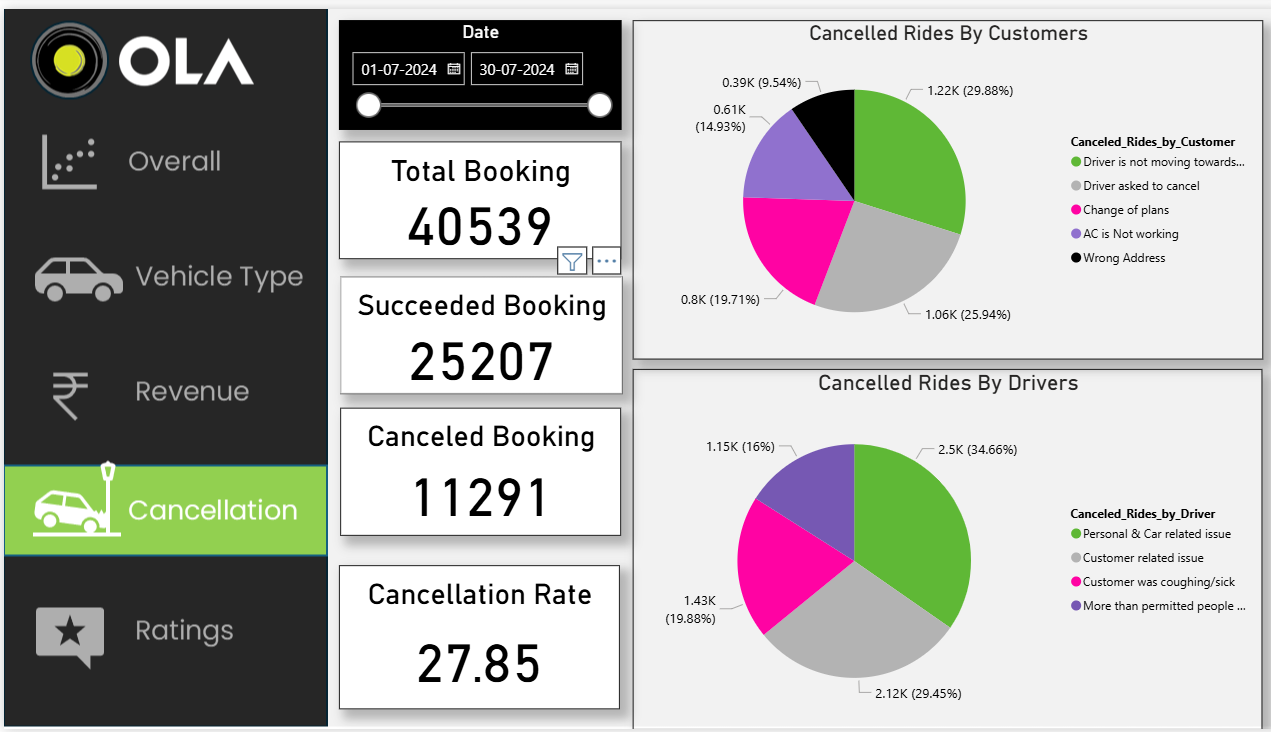

Layout of this report page (visuals, bound fields, positions):
{"tool":"powerbi","page":{"name":"Page 4","canvas":[1280,720],"ordinal":3},"visuals":[{"type":"actionButton","box":[0,578.6,322.9,95.7],"z":0},{"type":"actionButton","box":[0,220,322.9,95.7],"z":1000},{"type":"actionButton","box":[0,110,322.9,95.7],"z":2000},{"type":"actionButton","box":[0,337.1,322.9,95.7],"z":3000},{"type":"pieChart","title":"Cancelled Rides By Customers","fields":{"Category":["July.Canceled_Rides_by_Customer"],"Y":["CountNonNull(July.Booking_Value)"]},"box":[628.5,10.8,630.1,339],"z":4000},{"type":"pieChart","title":"Cancelled Rides By Drivers","fields":{"Category":["July.Canceled_Rides_by_Driver"],"Y":["CountNonNull(July.Canceled_Rides_by_Customer)"]},"box":[628.5,359.5,629.8,360.9],"z":5000},{"type":"slicer","title":"Date","fields":{"Values":["July.Date"]},"box":[335.4,10.9,282.3,109.8],"z":6000},{"type":"card","title":"Total Booking","fields":{"Values":["CountNonNull(July.Booking_ID)"]},"box":[335.1,132.3,282.2,117.6],"z":7000},{"type":"card","title":"Succeeded Booking","fields":{"Values":["CountNonNull(July.Booking_ID)"]},"box":[336.6,267.5,282.2,117.6],"z":8000},{"type":"card","title":"Canceled Booking","fields":{"Values":["CountNonNull(July.Booking_ID)"]},"box":[336.6,398.3,280.8,127.9],"z":9000},{"type":"card","title":"Cancellation Rate","fields":{"Values":["July.CanceledPercentage"]},"box":[335.1,555.6,280.8,144.1],"z":10000}]}

Visuals, with their boxes in screenshot pixels (x1, y1, x2, y2), scaled from the page's 1280x720 canvas onto the 1271x732 screenshot:
actionButton: 0, 588, 321, 686
actionButton: 0, 224, 321, 321
actionButton: 0, 112, 321, 209
actionButton: 0, 343, 321, 440
"Cancelled Rides By Customers" pieChart: 624, 11, 1250, 356
"Cancelled Rides By Drivers" pieChart: 624, 365, 1249, 731
"Date" slicer: 333, 11, 613, 123
"Total Booking" card: 333, 135, 613, 254
"Succeeded Booking" card: 334, 272, 614, 392
"Canceled Booking" card: 334, 405, 613, 535
"Cancellation Rate" card: 333, 565, 612, 711
